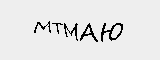І: (21, 16, 33, 36)
В: (31, 12, 48, 36)
М: (51, 4, 84, 34)
Р: (118, 11, 136, 39)
С: (84, 6, 104, 31), (104, 12, 119, 35)
